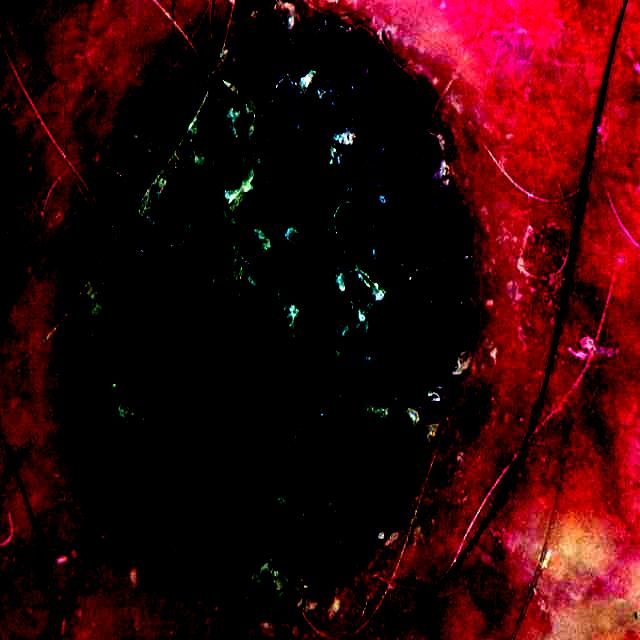BKL: (75, 3, 475, 621)
